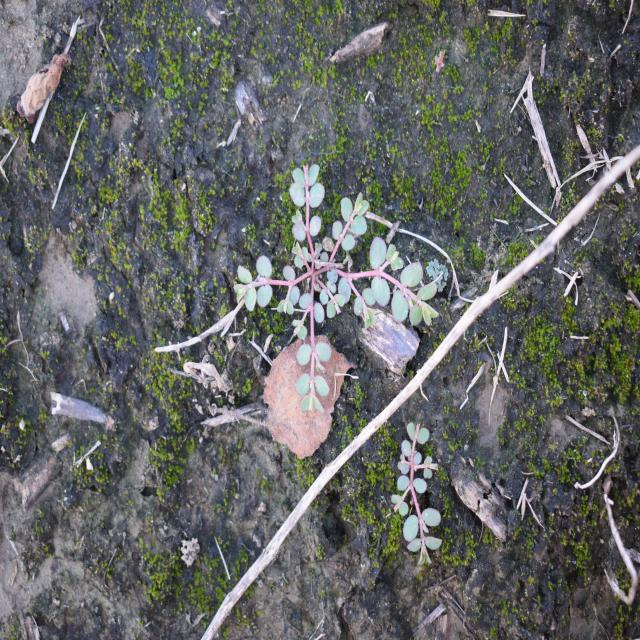SpottedSpurge: (231, 160, 440, 413), (389, 419, 444, 568)
